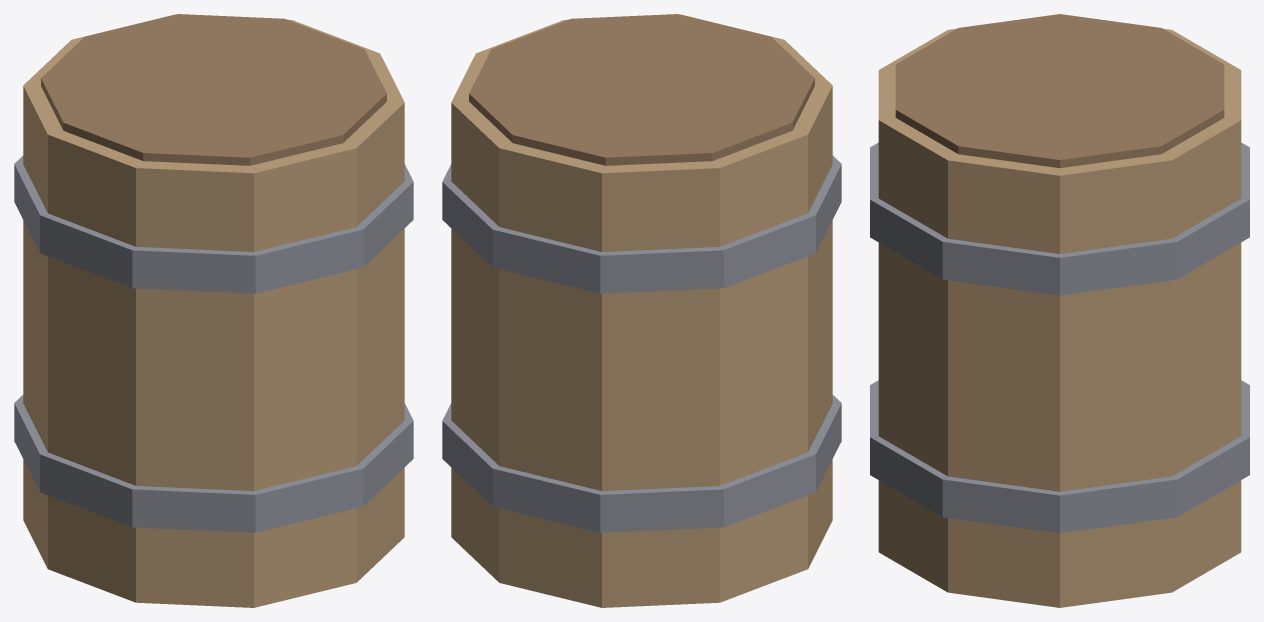
The model's file is barrel.glb.
3 renders of one model, left to right at view 1: azimuth 30°, elevation 25°; view 2: azimuth 150°, elevation 25°; view 3: azimuth 270°, elevation 25°, orthographic.
Parts seen in each view (by area): view 1: body, lid, band0.62, band0.18; view 2: body, lid, band0.62, band0.18; view 3: body, lid, band0.18, band0.62.
Part boxes in pixels (x1=…): body: x1=23, y1=15, x2=404, y2=607; lid: x1=41, y1=14, x2=386, y2=165; band0.62: x1=14, y1=155, x2=413, y2=293; band0.18: x1=14, y1=395, x2=413, y2=532; body: x1=451, y1=15, x2=832, y2=607; lid: x1=469, y1=14, x2=814, y2=165; band0.62: x1=442, y1=155, x2=841, y2=293; band0.18: x1=442, y1=395, x2=841, y2=532; body: x1=878, y1=28, x2=1241, y2=607; lid: x1=895, y1=14, x2=1224, y2=167; band0.18: x1=870, y1=380, x2=1249, y2=533; band0.62: x1=870, y1=142, x2=1249, y2=295.
Bounding box in the file's own units: 0.67 × 0.815 × 0.6372.
